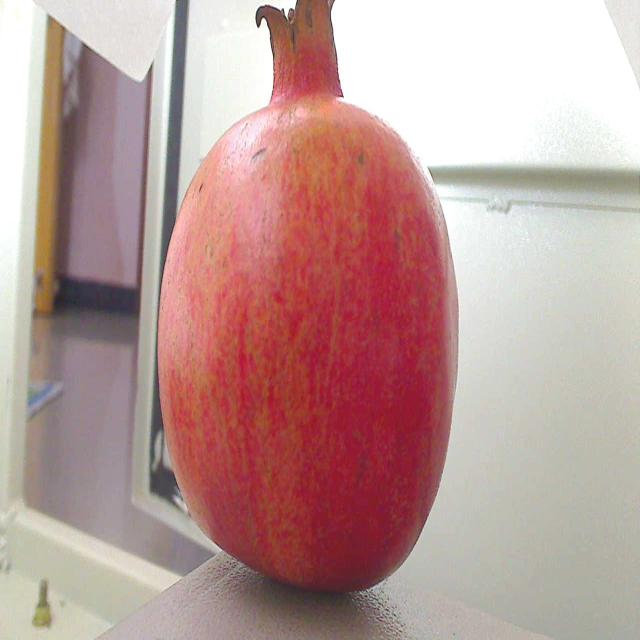pomegranate: (142, 0, 480, 640)
